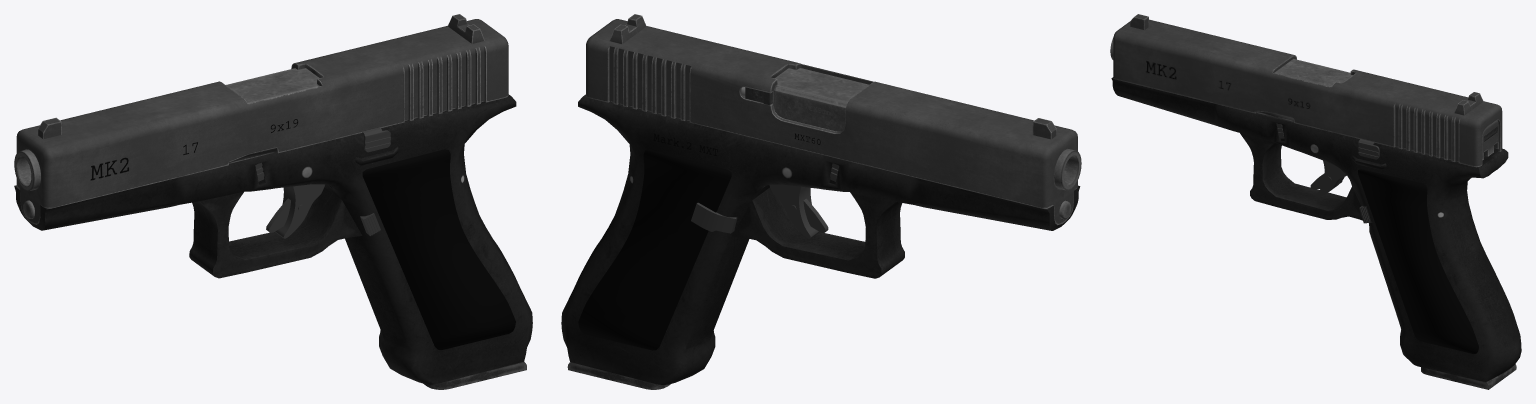
Rendered from pistol.glb.
3 renders of one model, left to right at view 1: azimuth 30°, elevation 25°; view 2: azimuth 150°, elevation 25°; view 3: azimuth 330°, elevation 25°, orthographic. The views are drawn at different scales.
Parts seen in each view (by area): view 1: Cube.005 (×2); view 2: Cube.005 (×2); view 3: Cube.005 (×2).
Boxes of the visible parts, <box> form: Cube.005 (×2): <box>14,14,532,389</box>; Cube.005 (×2): <box>561,14,1081,389</box>; Cube.005 (×2): <box>1110,14,1521,389</box>.
Bounding box in the file's own units: 2.4 × 1.58 × 0.334.
Materials: 2 (2 with a texture image).
